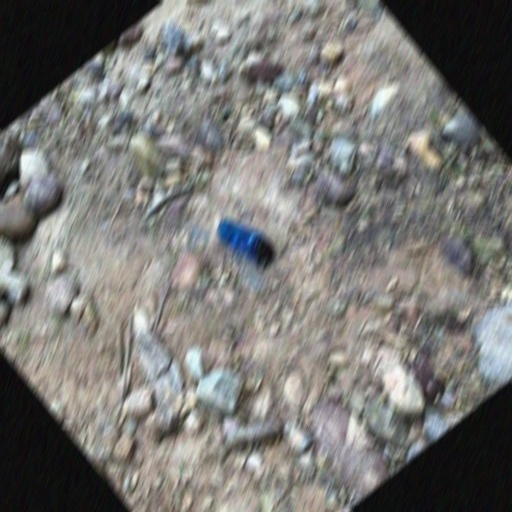bottle: (212, 205, 282, 280)
